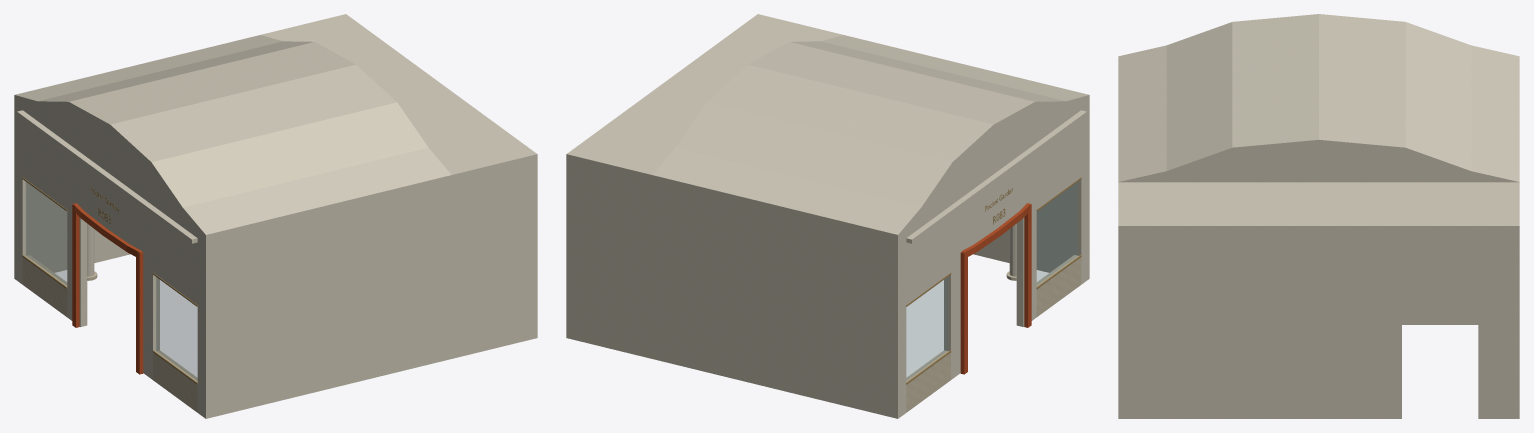
File: SHOP_D09_S100_F210__shell.glb
The picture shows the model from 3 angles, left to right: view 1: azimuth 30°, elevation 25°; view 2: azimuth 150°, elevation 25°; view 3: azimuth 270°, elevation 25°; orthographic projection. The views are drawn at different scales.
Parts seen in each view (by area): view 1: SHOP_D09_S100_F210__shell__ivory_enamel, SHOP_D09_S100_F210__shell__shop_glass, SHOP_D09_S100_F210__shell__warm_stone, SHOP_D09_S100_F210__shell__retail_terracotta_enamel, SHOP_D09_S100_F210__shell__champagne_metal; view 2: SHOP_D09_S100_F210__shell__ivory_enamel, SHOP_D09_S100_F210__shell__shop_glass, SHOP_D09_S100_F210__shell__warm_stone, SHOP_D09_S100_F210__shell__retail_terracotta_enamel, SHOP_D09_S100_F210__shell__champagne_metal; view 3: SHOP_D09_S100_F210__shell__ivory_enamel.
Boxes of the visible parts, left/top/right/bottom form: SHOP_D09_S100_F210__shell__ivory_enamel: left=14, top=14, right=537, bottom=418; SHOP_D09_S100_F210__shell__shop_glass: left=26, top=182, right=197, bottom=380; SHOP_D09_S100_F210__shell__warm_stone: left=22, top=255, right=197, bottom=412; SHOP_D09_S100_F210__shell__retail_terracotta_enamel: left=72, top=203, right=143, bottom=374; SHOP_D09_S100_F210__shell__champagne_metal: left=22, top=177, right=197, bottom=384; SHOP_D09_S100_F210__shell__ivory_enamel: left=566, top=14, right=1089, bottom=418; SHOP_D09_S100_F210__shell__shop_glass: left=906, top=182, right=1077, bottom=380; SHOP_D09_S100_F210__shell__warm_stone: left=906, top=255, right=1081, bottom=412; SHOP_D09_S100_F210__shell__retail_terracotta_enamel: left=960, top=203, right=1031, bottom=374; SHOP_D09_S100_F210__shell__champagne_metal: left=906, top=177, right=1081, bottom=384; SHOP_D09_S100_F210__shell__ivory_enamel: left=1118, top=14, right=1519, bottom=418.
Bounding box in the file's own units: 11.86 × 7.5 × 11.6.
6 materials, 4 textured.
